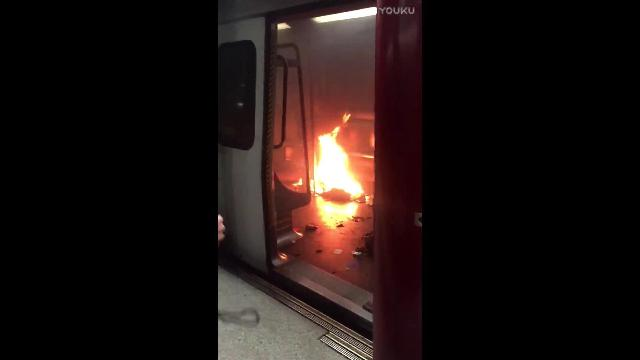fire: (314, 133, 336, 191), (316, 198, 358, 226), (336, 144, 348, 190), (346, 176, 362, 200), (342, 112, 350, 122)
